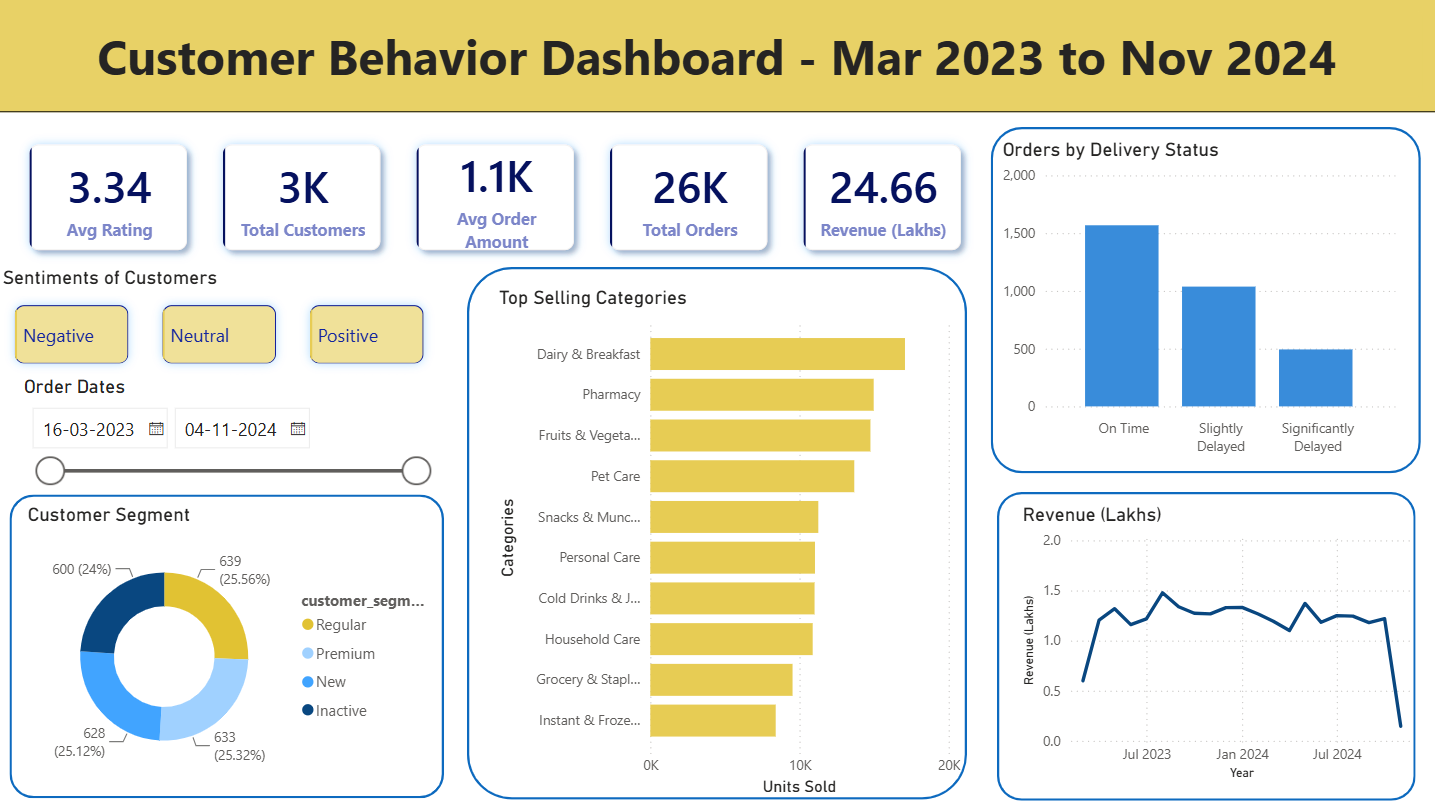

Layout of this report page (visuals, bound fields, positions):
{"tool":"powerbi","page":{"name":"Page 1","canvas":[1280,720],"ordinal":0},"visuals":[{"type":"cardVisual","fields":{"Data":["public blinkit_customer_feedback.Average Review Rating","public blinkit_customers.Number Of Customers","public blinkit_customer_feedback.Avergae Purchase Amount","public blinkit_customer_feedback.Total Orders","public blinkit_customer_feedback.Revenue (Lakhs)"]},"box":[0,102.5,888.8,152.5],"z":0},{"type":"shape","box":[11.2,442.5,386.2,270],"z":1000},{"type":"donutChart","title":"Customer Segment","fields":{"Category":["public blinkit_customers.customer_segment"],"Y":["CountNonNull(public blinkit_customers.customer_segment)"]},"box":[22.5,450,366.2,253.8],"z":2000},{"type":"donutChart","title":"Payment Method of Orders","fields":{"Category":["public blinkit_orders.payment_method"],"Y":["CountNonNull(public blinkit_orders.payment_method)"]},"box":[905,135,375,251.2],"z":3000},{"type":"barChart","title":"Top Selling Categories","fields":{"Category":["public blinkit_products.category"],"Y":["Sum(public blinkit_products.price)"]},"box":[441.2,256.2,420,458.8],"z":4000},{"type":"clusteredColumnChart","title":"Delivery Status of Orders","fields":{"Category":["public blinkit_delivery_performance.delivery_status"],"Y":["CountNonNull(public blinkit_delivery_performance.rreasons_if_delayed)"]},"box":[900,413.8,358.8,290],"z":5000},{"type":"advancedSlicerVisual","title":"Sentiments of Customers","fields":{"Values":["public blinkit_customer_feedback.sentiment"]},"box":[0,238.8,397.5,103.8],"z":6000},{"type":"shape","box":[888.8,115,382.5,281.2],"z":7000},{"type":"shape","box":[888.8,405,382.5,307.5],"z":8000},{"type":"shape","box":[428.8,238.8,445,473.8],"z":9000},{"type":"slicer","title":"Order Dates","fields":{"Values":["public blinkit_orders.order_date"]},"box":[18.8,335,375,103.8],"z":10000},{"type":"cardVisual","fields":{"Data":["public blinkit_customer_feedback.Dashboard Title"]},"box":[0,0,1280,102.5],"z":11000}]}

Visuals, with their boxes in screenshot pixels (x1, y1, x2, y2), scaled from the page's 1280x720 canvas onto the 1435x806 screenshot:
cardVisual - public blinkit_customer_feedback.Average Review Rating x public blinkit_customers.Number Of Customers: (left=0, top=115, right=996, bottom=285)
shape: (left=13, top=495, right=446, bottom=798)
"Customer Segment" donutChart: (left=25, top=504, right=436, bottom=788)
"Payment Method of Orders" donutChart: (left=1015, top=151, right=1434, bottom=432)
"Top Selling Categories" barChart: (left=495, top=287, right=965, bottom=800)
"Delivery Status of Orders" clusteredColumnChart: (left=1009, top=463, right=1411, bottom=788)
"Sentiments of Customers" advancedSlicerVisual: (left=0, top=267, right=446, bottom=384)
shape: (left=996, top=129, right=1425, bottom=444)
shape: (left=996, top=453, right=1425, bottom=798)
shape: (left=481, top=267, right=980, bottom=798)
"Order Dates" slicer: (left=21, top=375, right=441, bottom=491)
cardVisual - public blinkit_customer_feedback.Dashboard Title: (left=0, top=0, right=1434, bottom=115)
